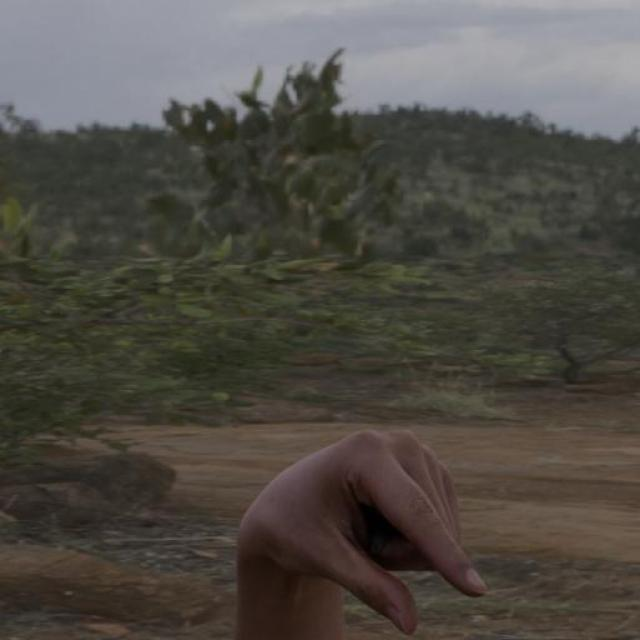Q: (230, 422, 496, 640)
